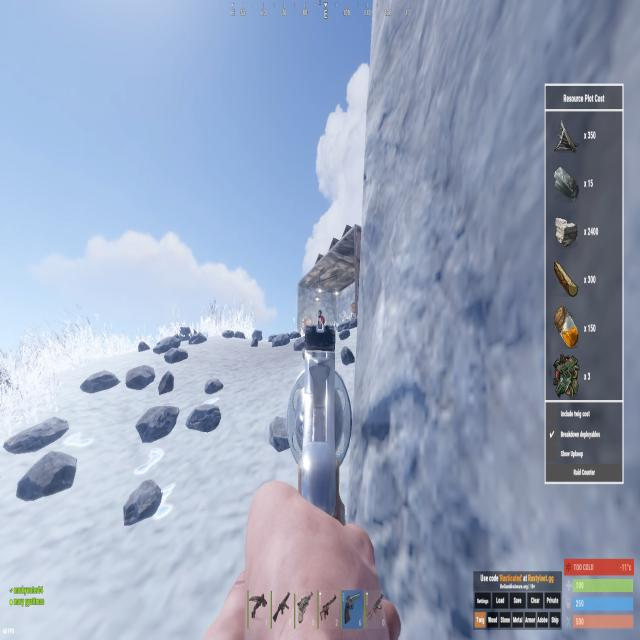Player: (317, 308, 326, 331)
